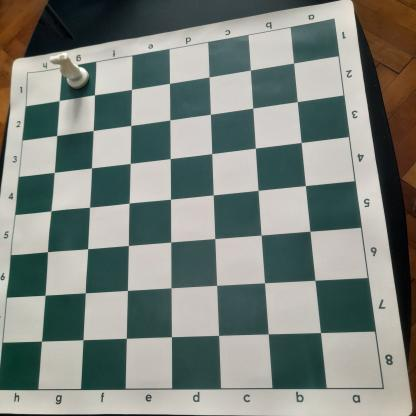white-knight: (48, 52, 90, 89)
